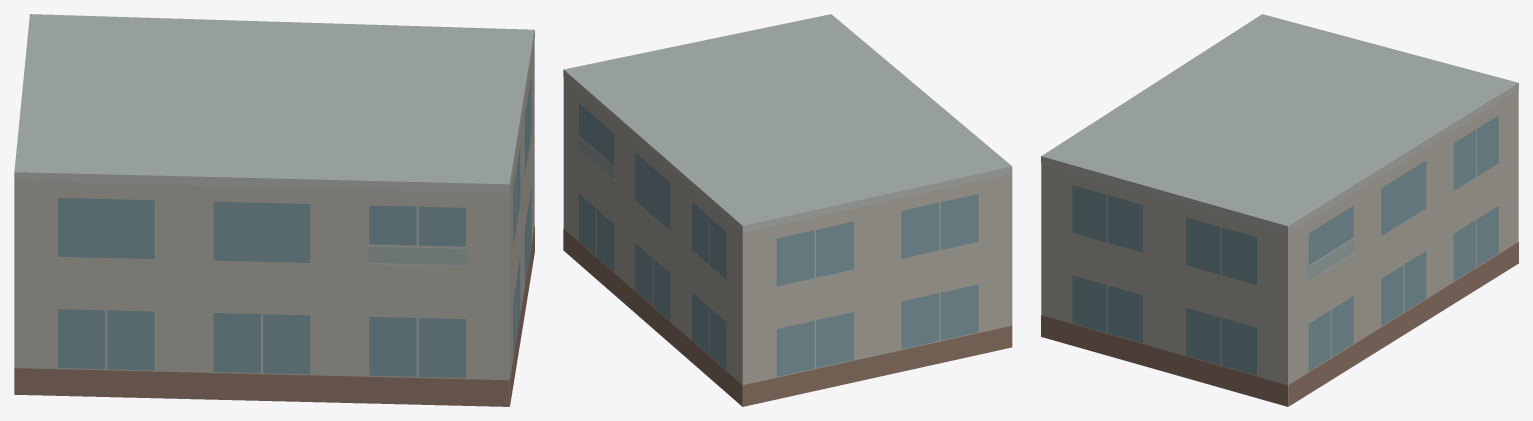
Rendered from survey-upis-32934567.glb.
3 renders of one model, left to right at view 1: azimuth 30°, elevation 25°; view 2: azimuth 150°, elevation 25°; view 3: azimuth 270°, elevation 25°, orthographic. The views are drawn at different scales.
Visible parts, largest first — view 1: survey-upis-32934567.tmp; view 2: survey-upis-32934567.tmp; view 3: survey-upis-32934567.tmp.
Part boxes in pixels (x1,y1,x2,y2): survey-upis-32934567.tmp: (14, 14, 534, 406); survey-upis-32934567.tmp: (563, 14, 1012, 406); survey-upis-32934567.tmp: (1041, 14, 1518, 406).
Size of the model in its own units: 15.39 by 6.1 by 14.63.
